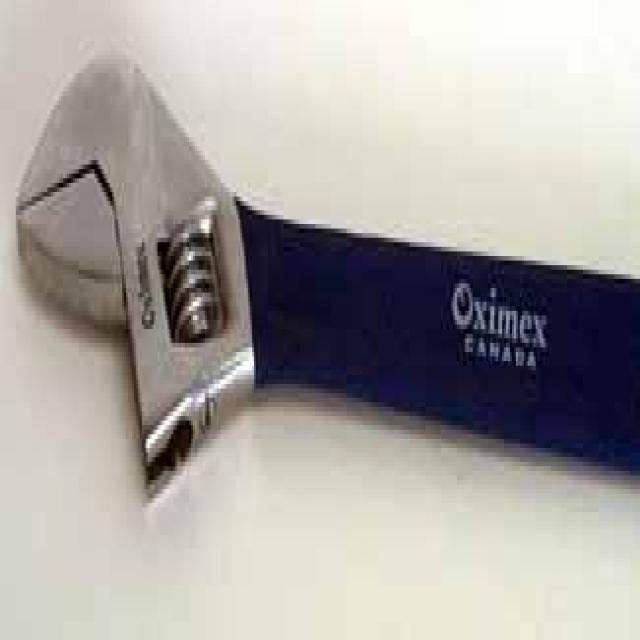wrench: (10, 44, 640, 508)
